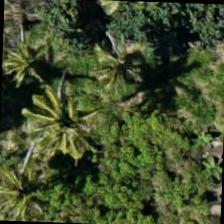Kelapa_Sawit: (71, 20, 164, 114), (3, 78, 96, 172), (0, 26, 78, 119), (0, 150, 70, 222)
